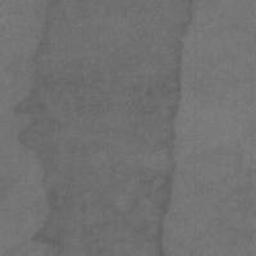Water spot: (10, 0, 195, 256)
